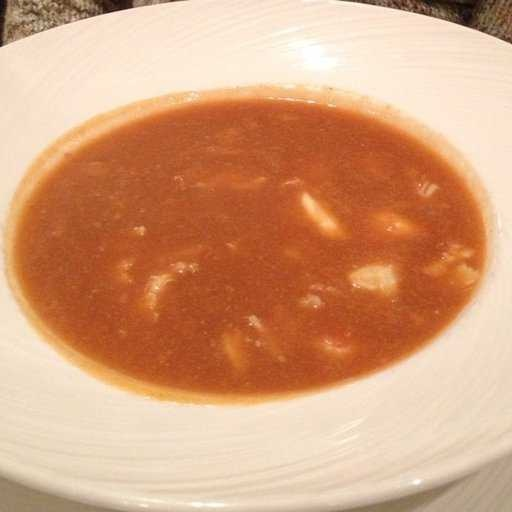soup: (1, 19, 491, 465)
